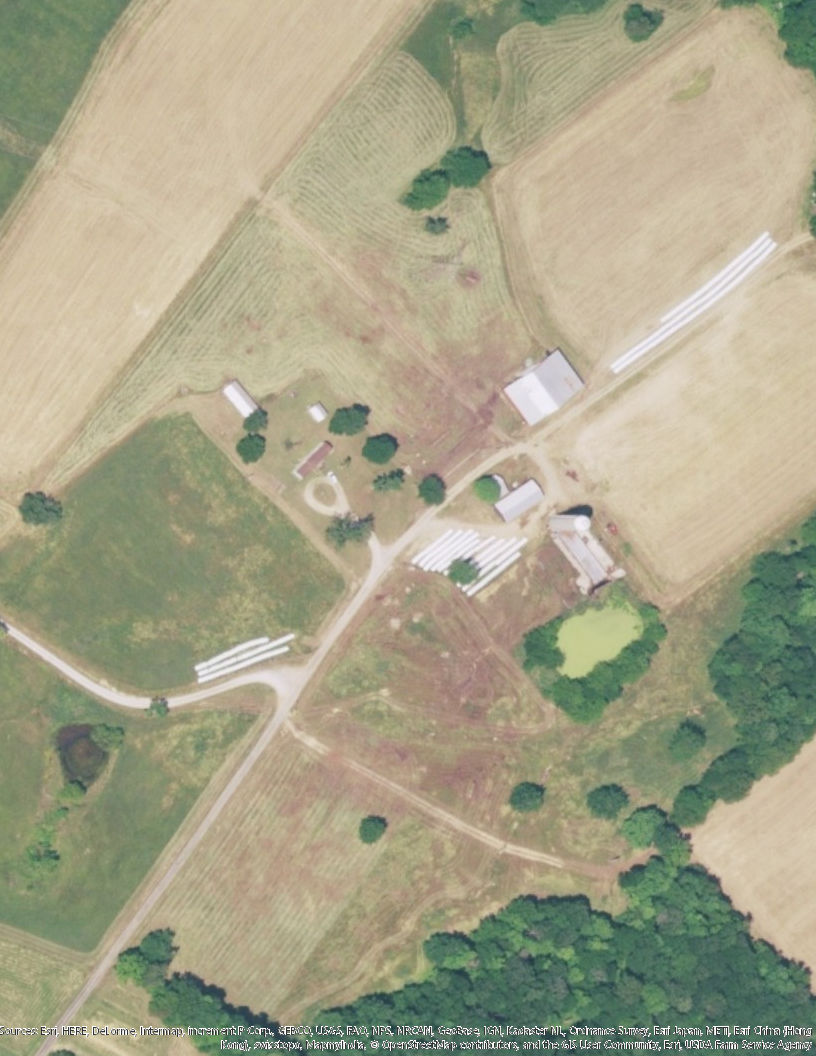cafo: (504, 344, 592, 430)
